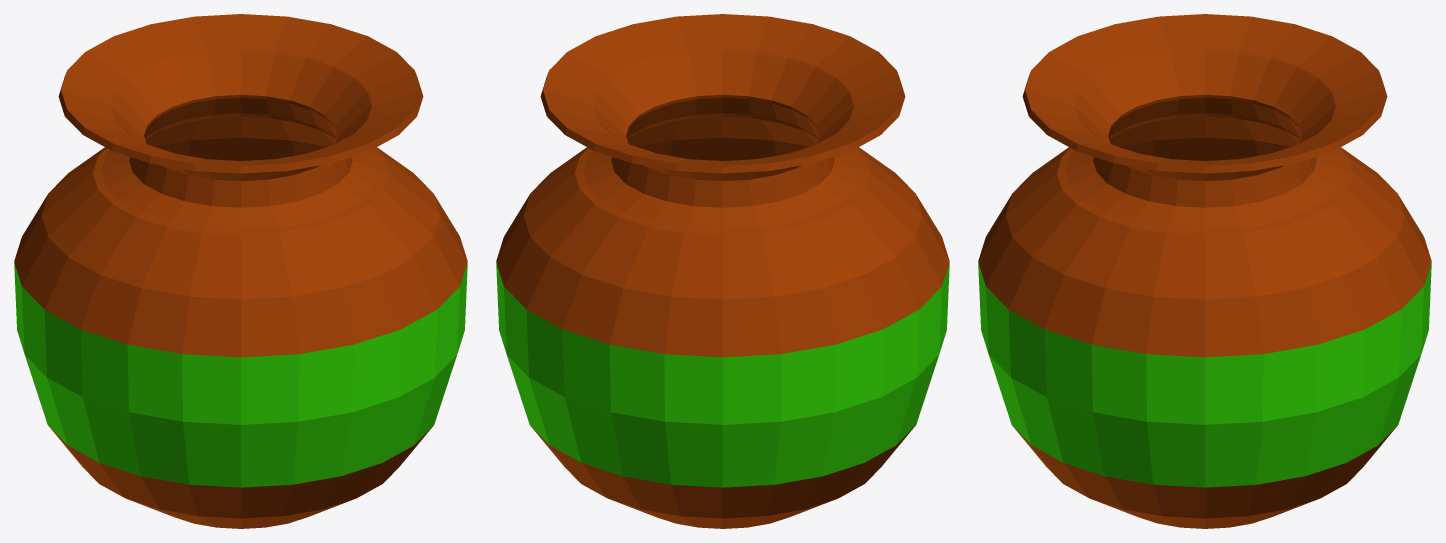
File: jarron_green.fbx
The picture shows the model from 3 angles, left to right: view 1: azimuth 30°, elevation 25°; view 2: azimuth 150°, elevation 25°; view 3: azimuth 270°, elevation 25°; orthographic projection.
Parts seen in each view (by area): view 1: Jarron; view 2: Jarron; view 3: Jarron.
Boxes of the visible parts, x1=… form: Jarron: x1=14, y1=14, x2=467, y2=528; Jarron: x1=496, y1=14, x2=949, y2=528; Jarron: x1=978, y1=14, x2=1431, y2=528.
Bounding box in the file's own units: 74.35 × 75.09 × 74.35.
